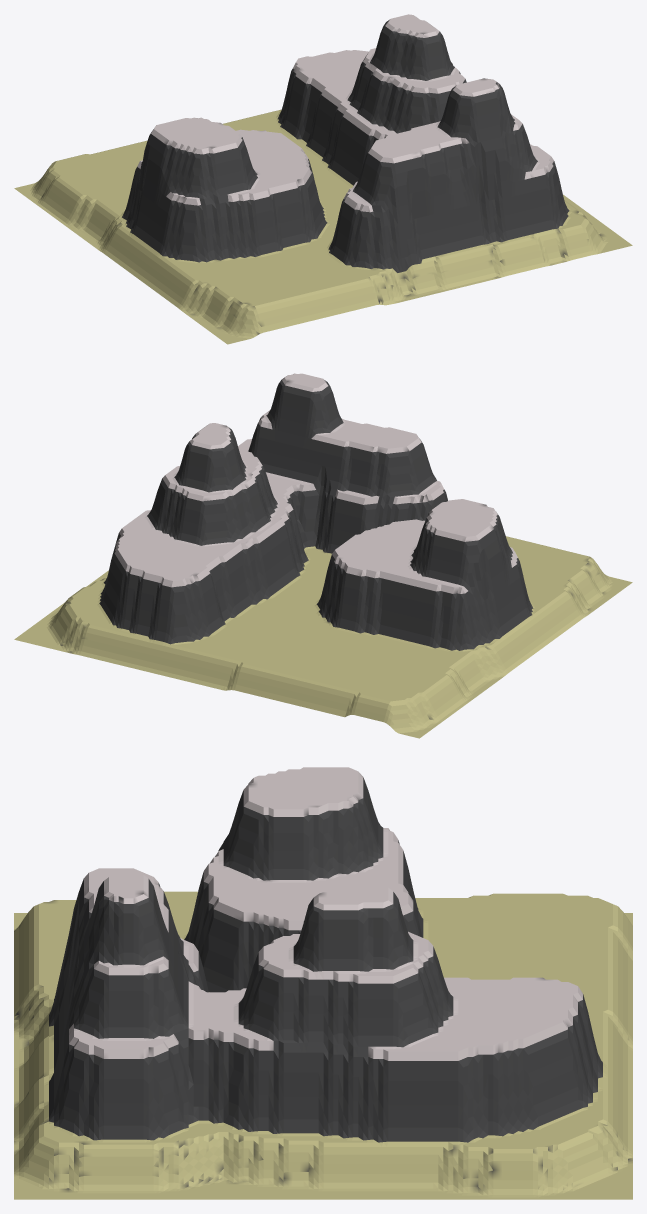
Rendered from NorthIslandTerrain.fbx.
3 renders of one model, top to bottom at view 1: azimuth 30°, elevation 25°; view 2: azimuth 150°, elevation 25°; view 3: azimuth 270°, elevation 25°, orthographic. The views are drawn at different scales.
Parts seen in each view (by area): view 1: Plane.004; view 2: Plane.004; view 3: Plane.004.
Boxes of the visible parts, x1,y1,x2,y2 form: Plane.004: [14, 14, 632, 344]; Plane.004: [14, 373, 632, 738]; Plane.004: [14, 767, 632, 1199].
Size of the model in its own units: 10625 by 4005 by 9688.
